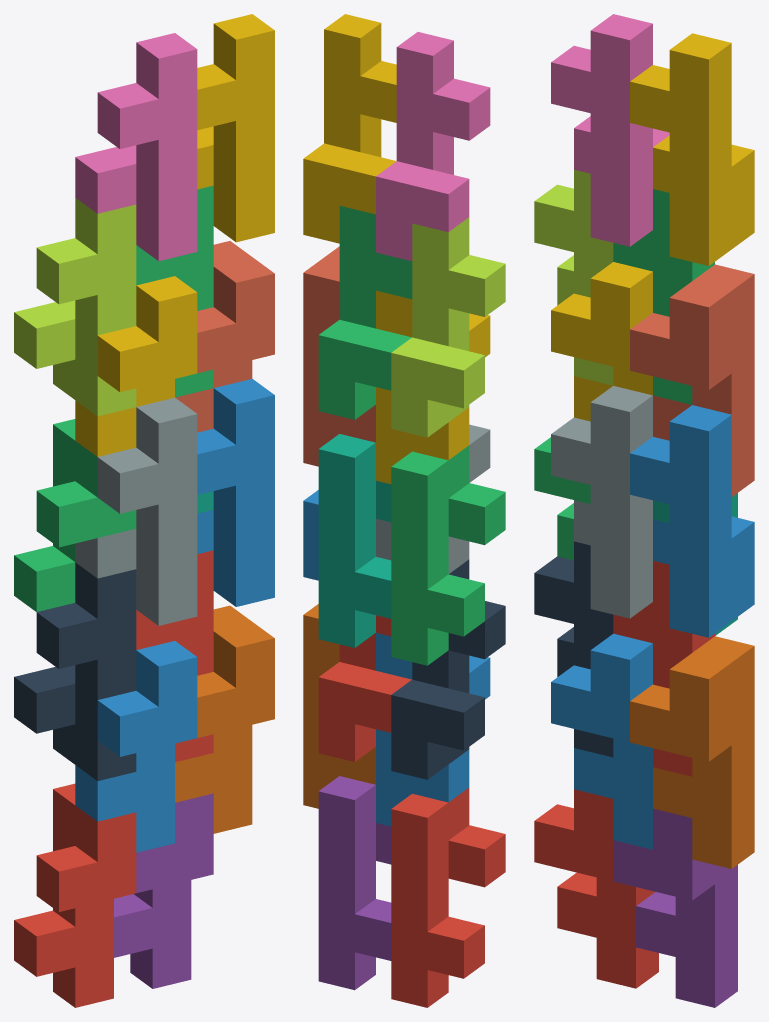
The model's file is tiling.obj.
3 views of the same model, side by side, from view 1: azimuth 30°, elevation 25°; view 2: azimuth 150°, elevation 25°; view 3: azimuth 330°, elevation 25° (orthographic). The views are drawn at different scales.
Parts seen in each view (by area): view 1: copy_2_domain_4, copy_2_domain_2, copy_1_domain_1, copy_2_domain_1, copy_2_domain_3, copy_2_domain_8, copy_2_domain_6, copy_1_domain_2, copy_1_domain_6, copy_1_domain_5, copy_1_domain_4, copy_1_domain_3 (+3 smaller); view 2: copy_1_domain_1, copy_1_domain_3, copy_2_domain_4, copy_2_domain_3, copy_2_domain_8, copy_1_domain_5, copy_1_domain_7, copy_2_domain_7, copy_2_domain_1, copy_2_domain_5, copy_1_domain_8, copy_1_domain_4 (+4 smaller); view 3: copy_1_domain_6, copy_2_domain_8, copy_2_domain_6, copy_1_domain_8, copy_2_domain_4, copy_2_domain_2, copy_1_domain_5, copy_1_domain_2, copy_1_domain_1, copy_1_domain_4, copy_2_domain_1, copy_2_domain_3 (+4 smaller).
Part boxes in pixels (left/top/right/bottom): copy_2_domain_4: left=75, top=33, right=197, bottom=261; copy_2_domain_2: left=75, top=397, right=197, bottom=625; copy_1_domain_1: left=14, top=783, right=136, bottom=1007; copy_2_domain_1: left=14, top=562, right=136, bottom=780; copy_2_domain_3: left=14, top=198, right=136, bottom=416; copy_2_domain_8: left=197, top=14, right=274, bottom=242; copy_2_domain_6: left=197, top=378, right=274, bottom=606; copy_1_domain_2: left=75, top=641, right=197, bottom=852; copy_1_domain_6: left=175, top=605, right=274, bottom=833; copy_1_domain_5: left=114, top=793, right=213, bottom=988; copy_1_domain_4: left=75, top=276, right=197, bottom=456; copy_1_domain_3: left=14, top=419, right=136, bottom=611; copy_1_domain_1: left=391, top=787, right=505, bottom=1007; copy_1_domain_3: left=391, top=445, right=505, bottom=665; copy_2_domain_4: left=376, top=32, right=490, bottom=261; copy_2_domain_3: left=391, top=217, right=505, bottom=437; copy_2_domain_8: left=303, top=14, right=396, bottom=243; copy_1_domain_5: left=318, top=776, right=391, bottom=990; copy_1_domain_7: left=318, top=434, right=391, bottom=647; copy_2_domain_7: left=318, top=206, right=412, bottom=419; copy_2_domain_1: left=391, top=559, right=505, bottom=779; copy_2_domain_5: left=318, top=615, right=411, bottom=761; copy_1_domain_8: left=303, top=246, right=375, bottom=466; copy_1_domain_4: left=376, top=290, right=490, bottom=484; copy_1_domain_6: left=630, top=636, right=754, bottom=868; copy_2_domain_8: left=630, top=33, right=754, bottom=265; copy_2_domain_6: left=630, top=405, right=754, bottom=637; copy_1_domain_8: left=630, top=264, right=754, bottom=496; copy_2_domain_4: left=551, top=14, right=669, bottom=246; copy_2_domain_2: left=551, top=386, right=652, bottom=618; copy_1_domain_5: left=613, top=808, right=737, bottom=1007; copy_1_domain_2: left=551, top=633, right=652, bottom=849; copy_1_domain_1: left=534, top=789, right=658, bottom=988; copy_1_domain_4: left=551, top=262, right=652, bottom=421; copy_2_domain_1: left=534, top=541, right=613, bottom=757; copy_2_domain_3: left=534, top=169, right=613, bottom=385.
Bounding box in the file's own units: 5 × 24 × 3.
